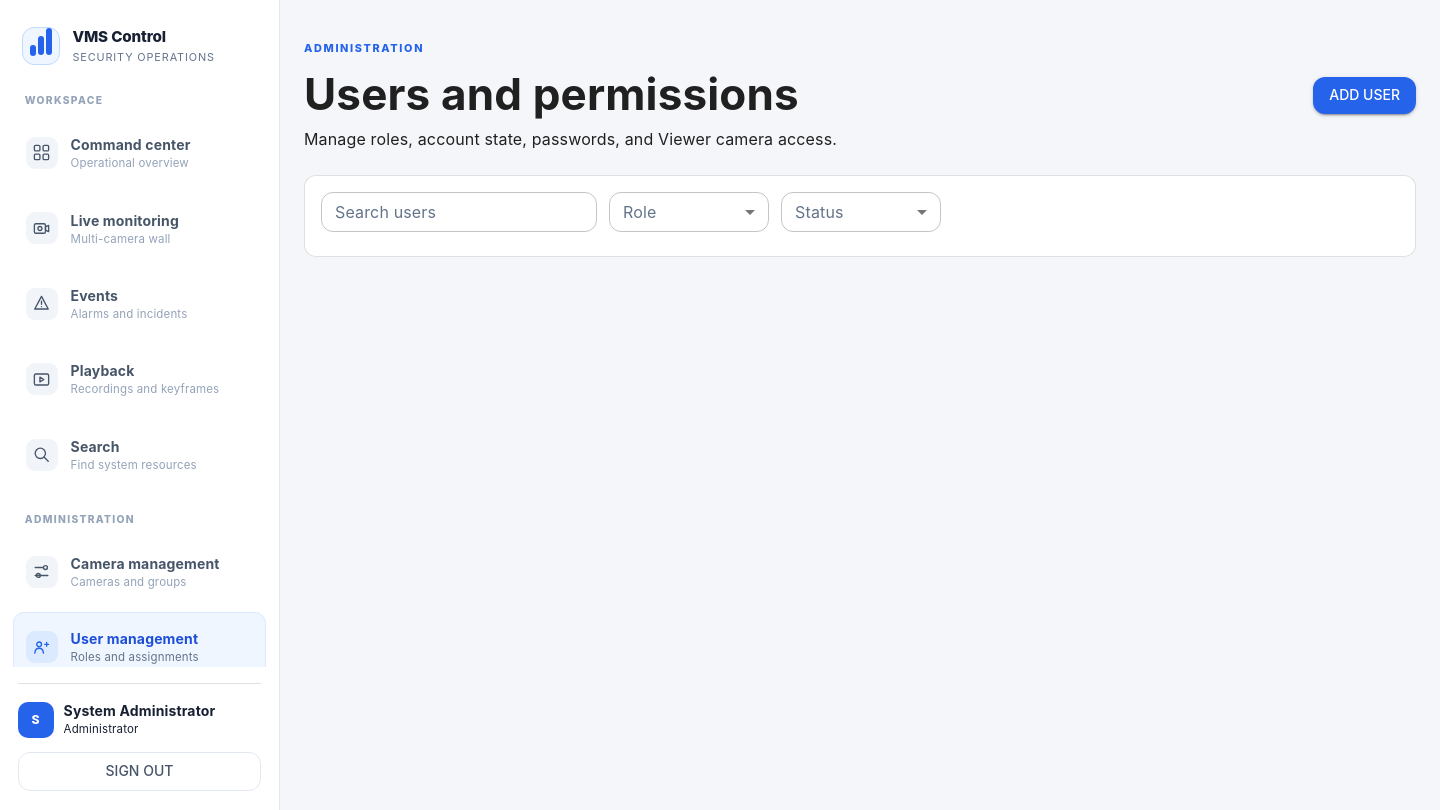
Test: authentication and authorization UI › allows an Administrator to create a Viewer with assignments
The image size is (1440, 810).
Expected: the heading "Users and permissions" is shown, x1=304 y1=68 x2=837 y2=120
Click the button "Add user".
click(1365, 95)  # box x1=1313 y1=77 x2=1416 y2=114
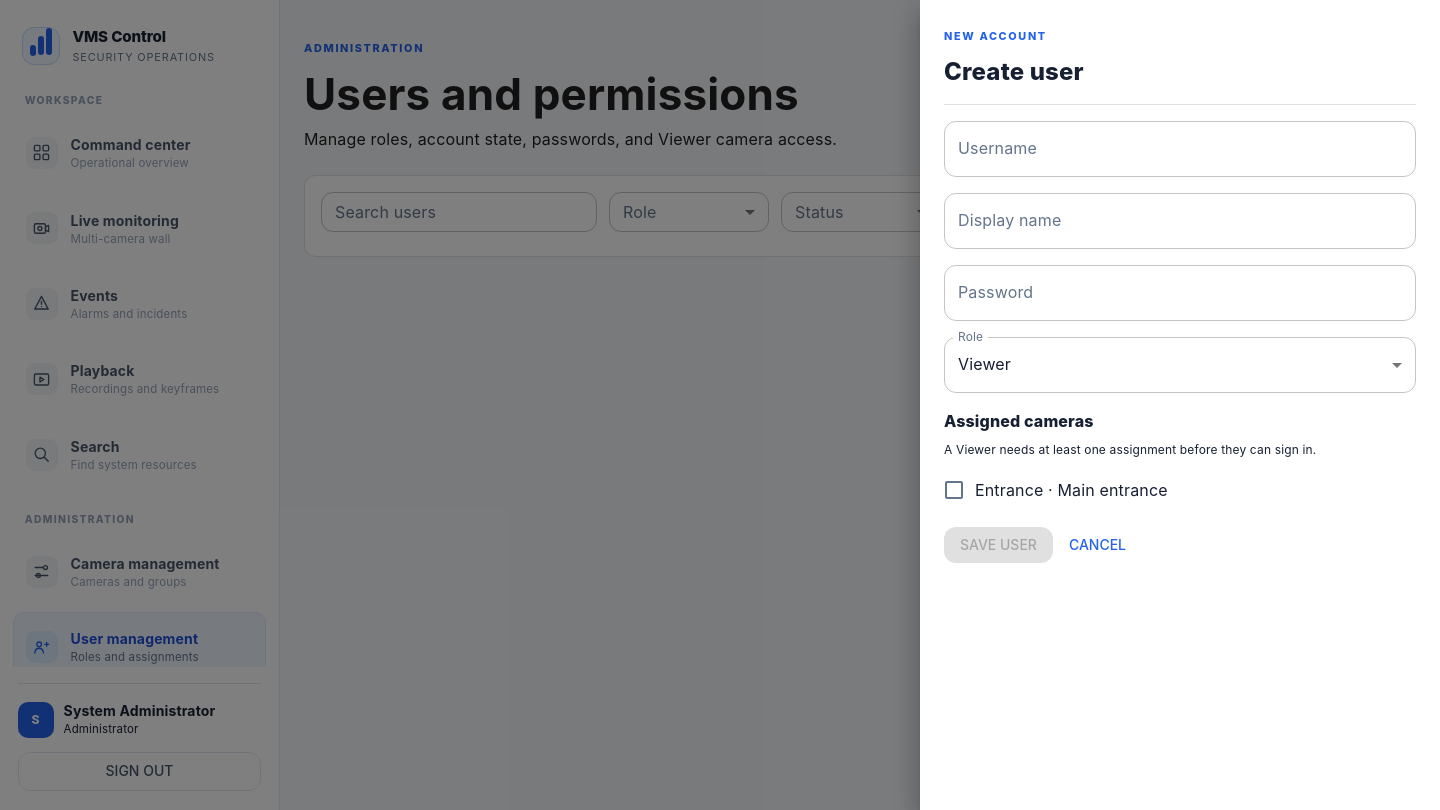
Type "night.viewer" into the field labelled "Username".
click(1180, 148); type("night.viewer")  # box x1=944 y1=120 x2=1416 y2=176
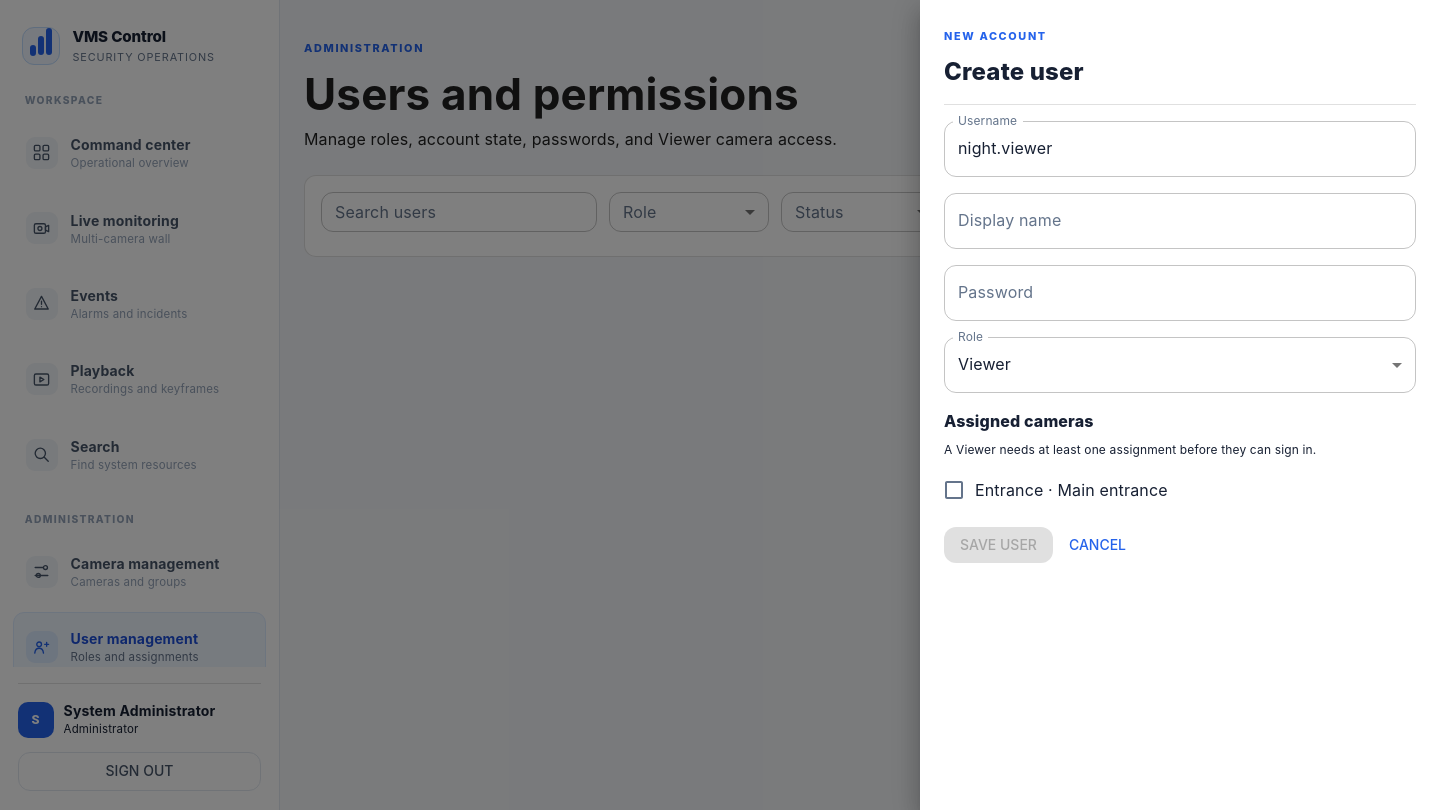
Type "Night Viewer" into the field labelled "Display name".
click(1180, 220); type("Night Viewer")  # box x1=944 y1=192 x2=1416 y2=248
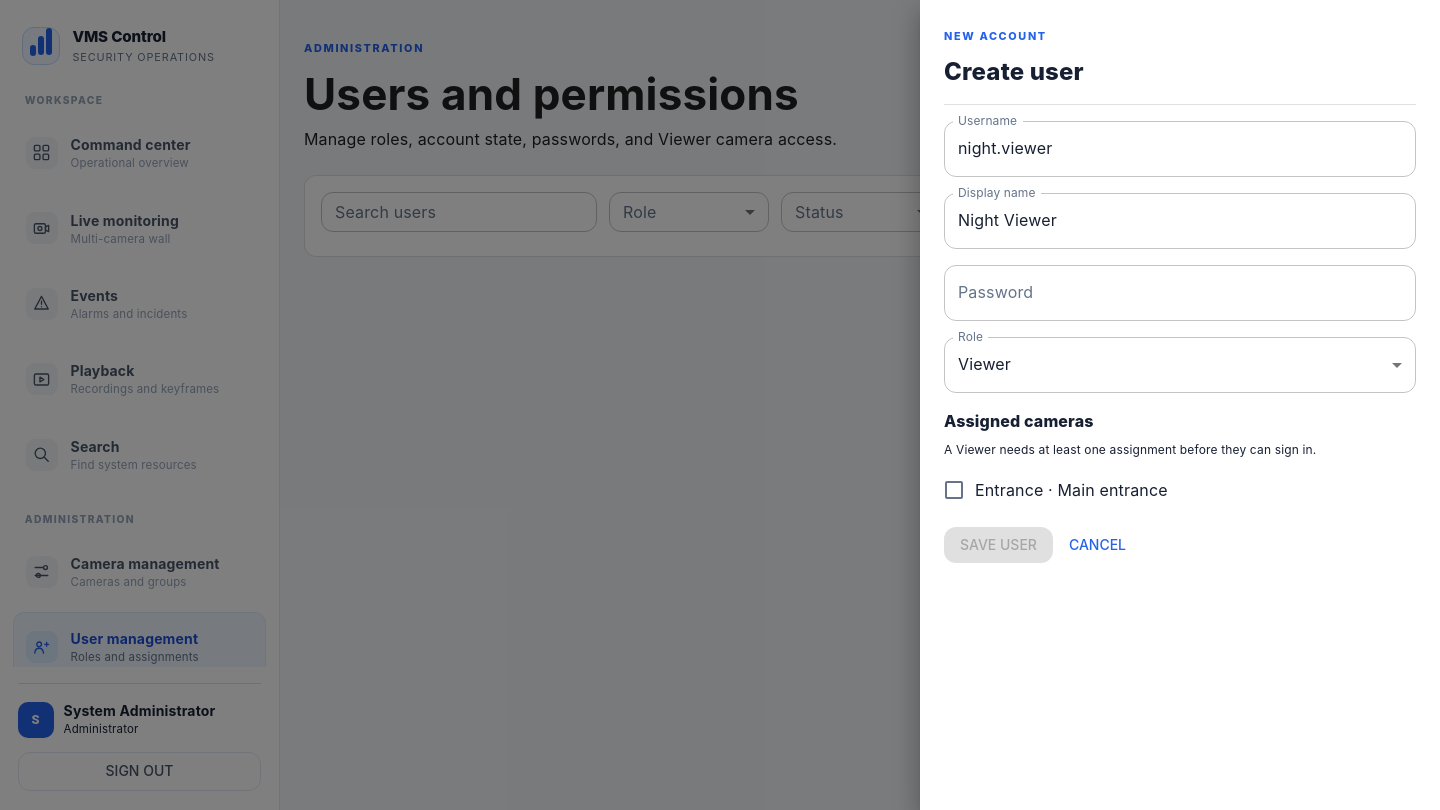
Type "Viewer123!" into the password field labelled "Password".
click(1180, 292); type("Viewer123!")  # box x1=944 y1=264 x2=1416 y2=320
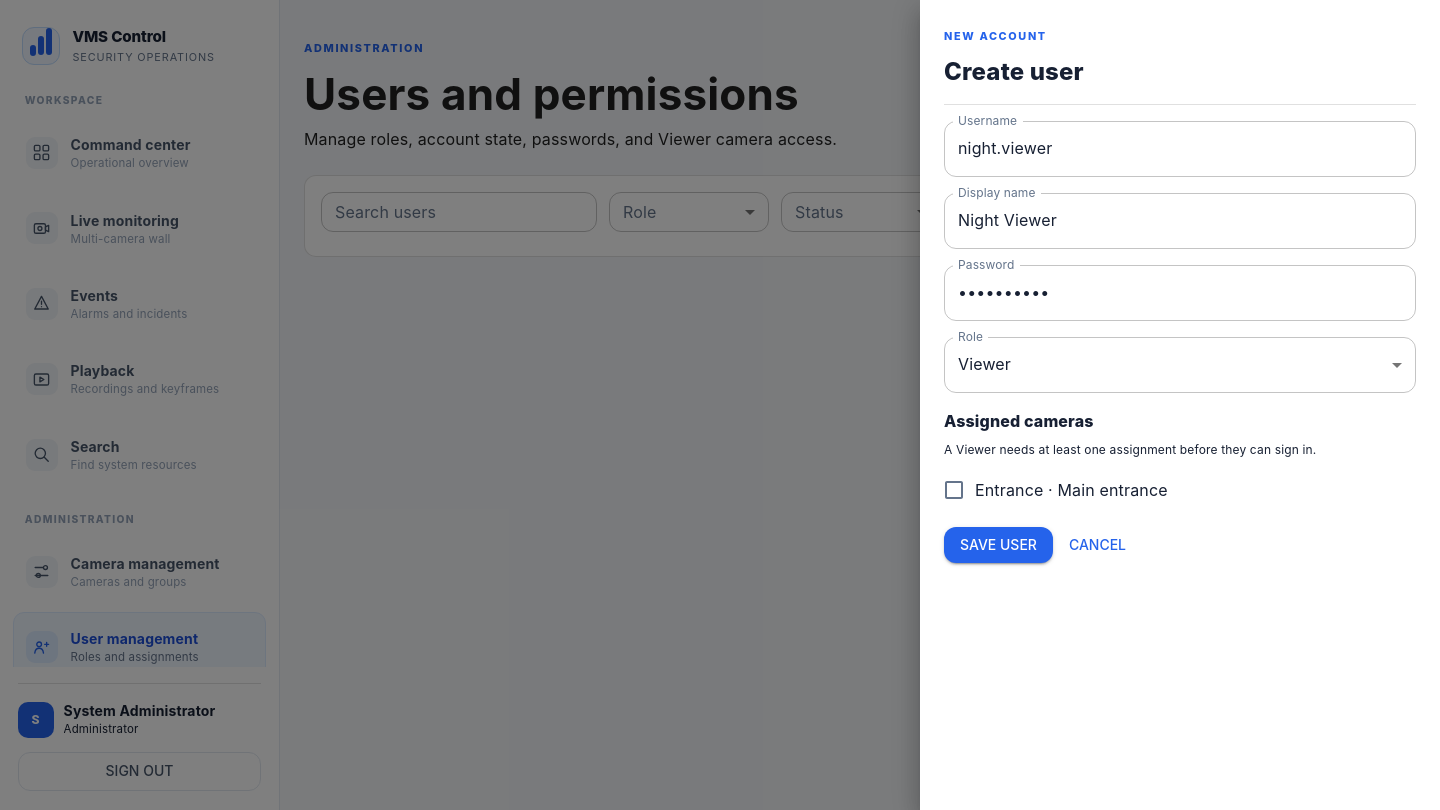
Click the checkbox labelled "Entrance · Main entrance".
click(1055, 490)  # box x1=942 y1=478 x2=1168 y2=502
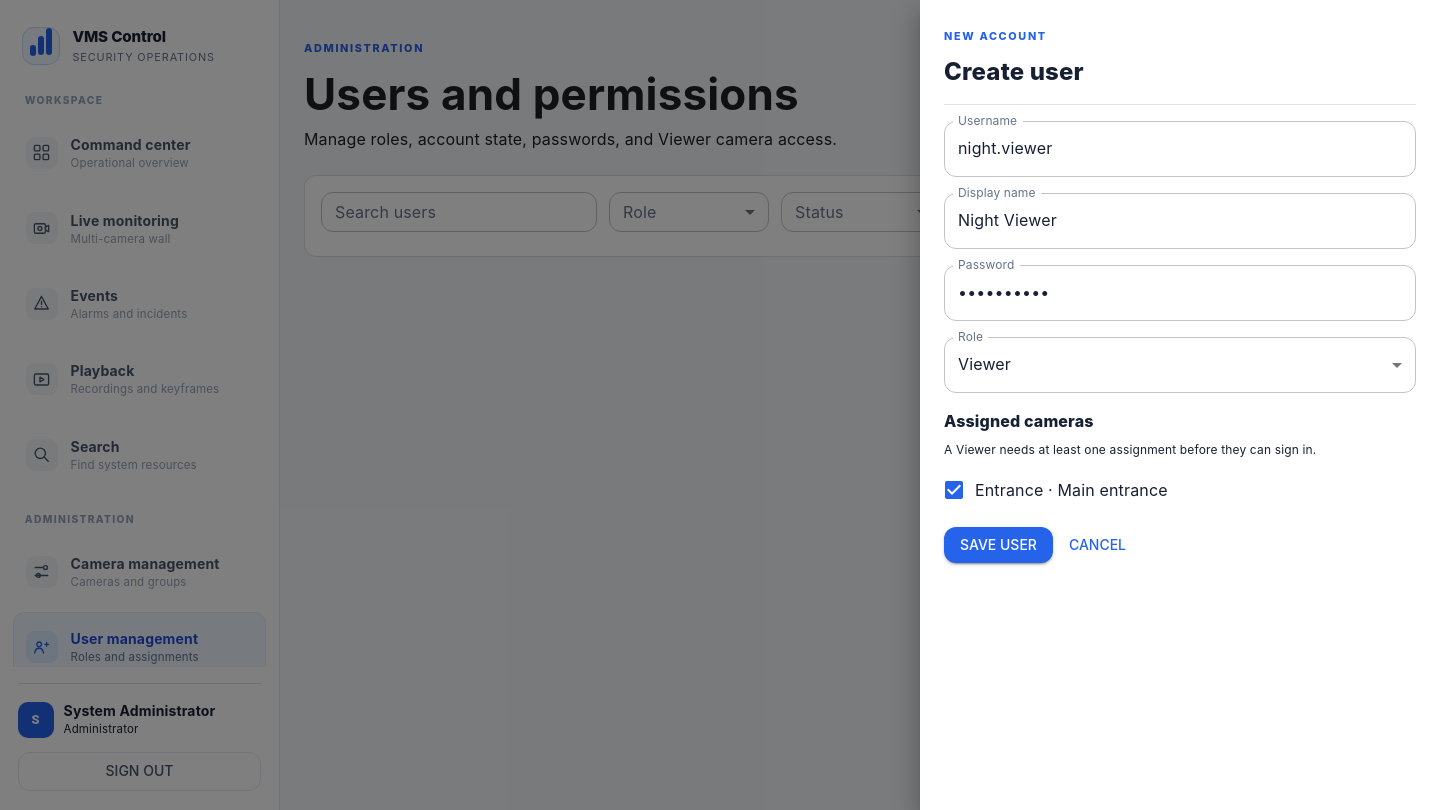
Click the button "Save user".
click(998, 545)  # box x1=944 y1=526 x2=1053 y2=563
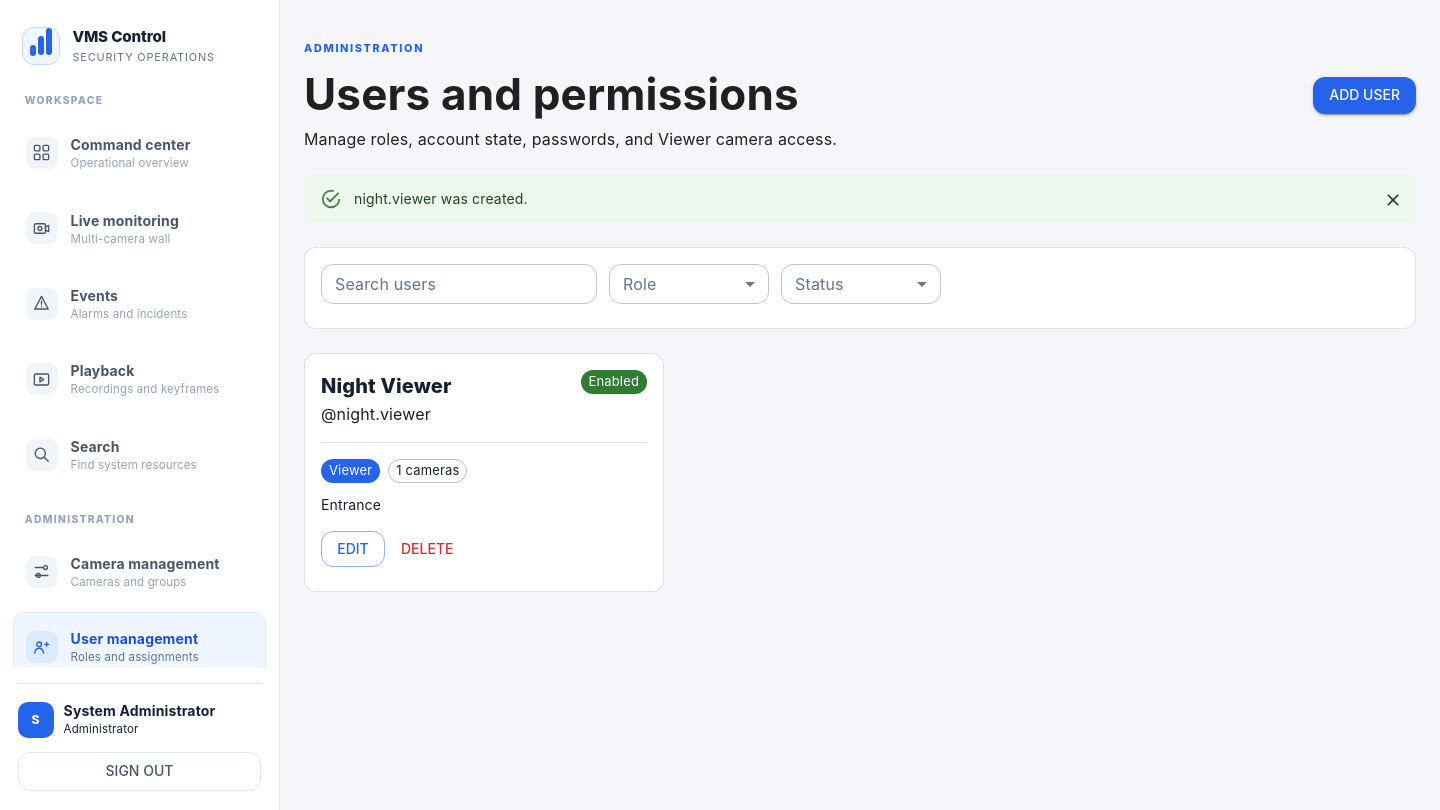
Now the text "night.viewer was created." is shown, box x1=354 y1=190 x2=528 y2=207
